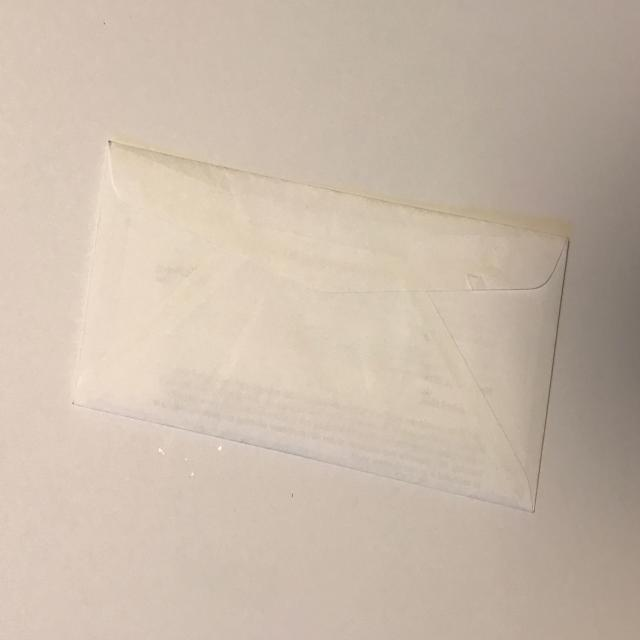paper: (45, 115, 593, 523)
